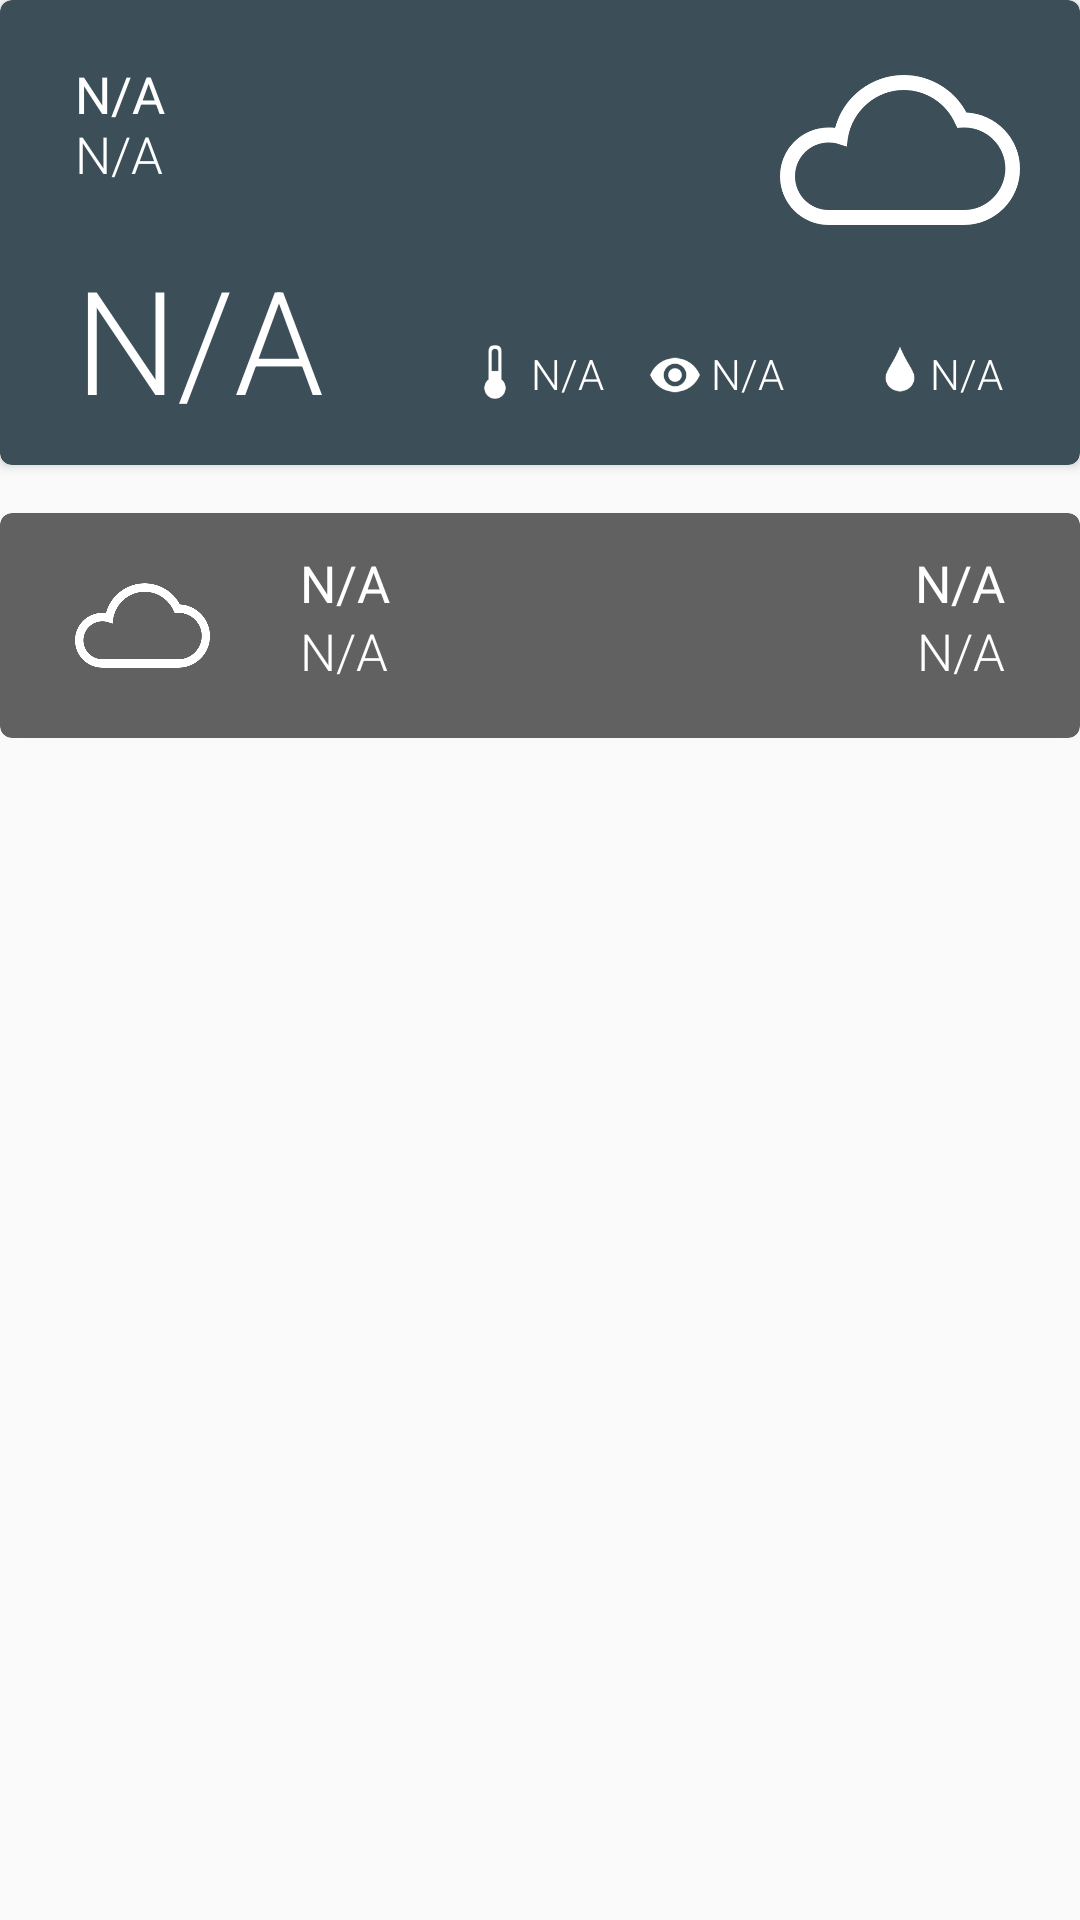

Point at icon controls on the screen. Image size 1080 x 1920, points as [x,y].
Subjektivni osećaj: [495,372]
Vidljivost: [675,375]
